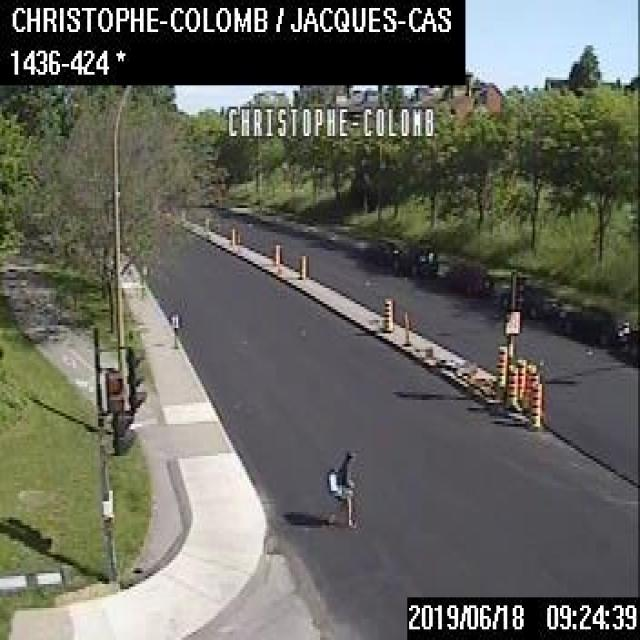construction: (493, 342, 507, 394), (526, 380, 540, 430), (515, 354, 528, 404), (505, 361, 518, 410), (523, 362, 536, 411), (380, 294, 393, 334), (296, 248, 306, 280), (402, 312, 409, 344), (227, 224, 235, 248), (273, 245, 280, 267)
pedestrian: (324, 448, 356, 531)
